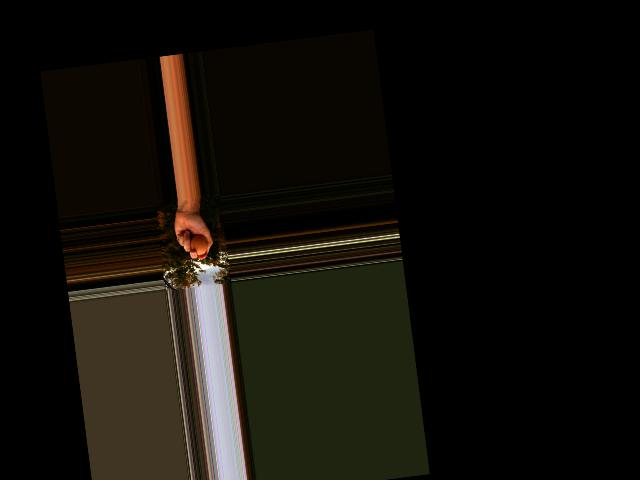egg: (188, 233, 208, 256)
